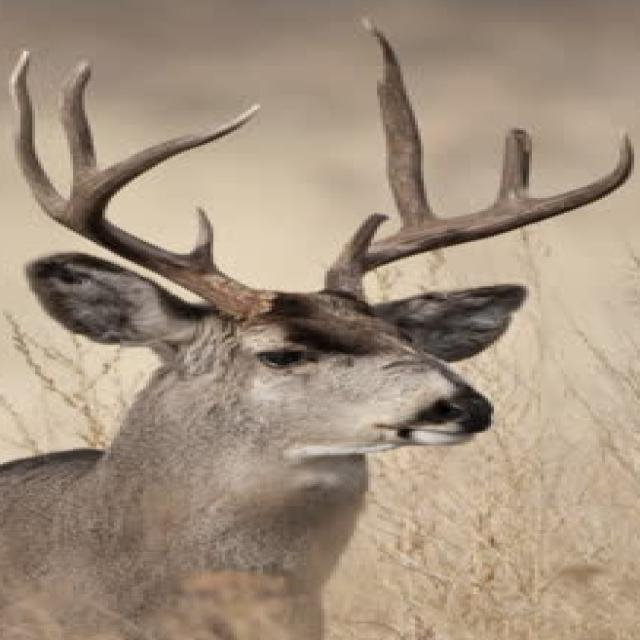L-F: (316, 127, 635, 308)
L-G1: (341, 211, 394, 248)
L-G2: (358, 14, 439, 231)
L-G3: (492, 127, 534, 207)
R-F: (63, 102, 281, 320)
R-G1: (186, 205, 218, 268)
R-G2: (7, 47, 70, 226)
R-G3: (58, 58, 100, 183)
